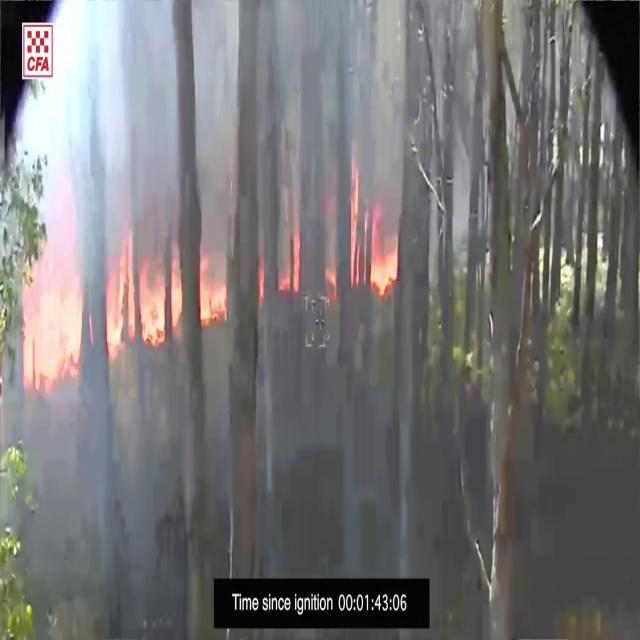Fire: (105, 244, 228, 340), (342, 199, 396, 301)
Smoke: (11, 8, 192, 323)
